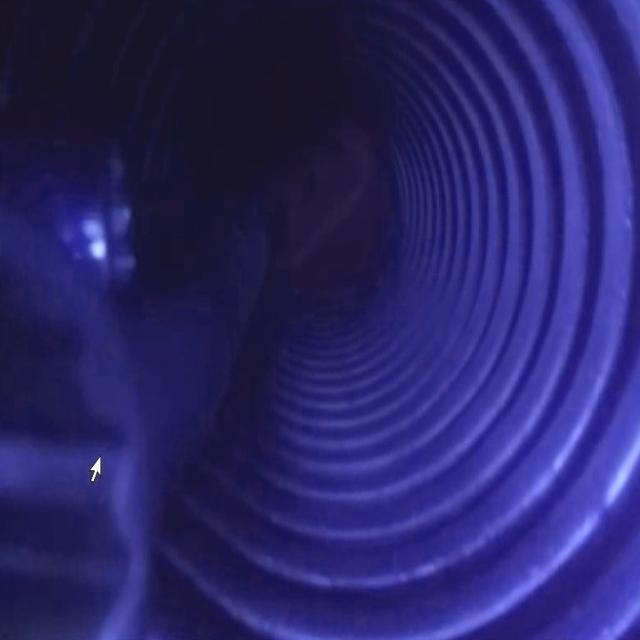metal piece: (0, 176, 186, 639)
